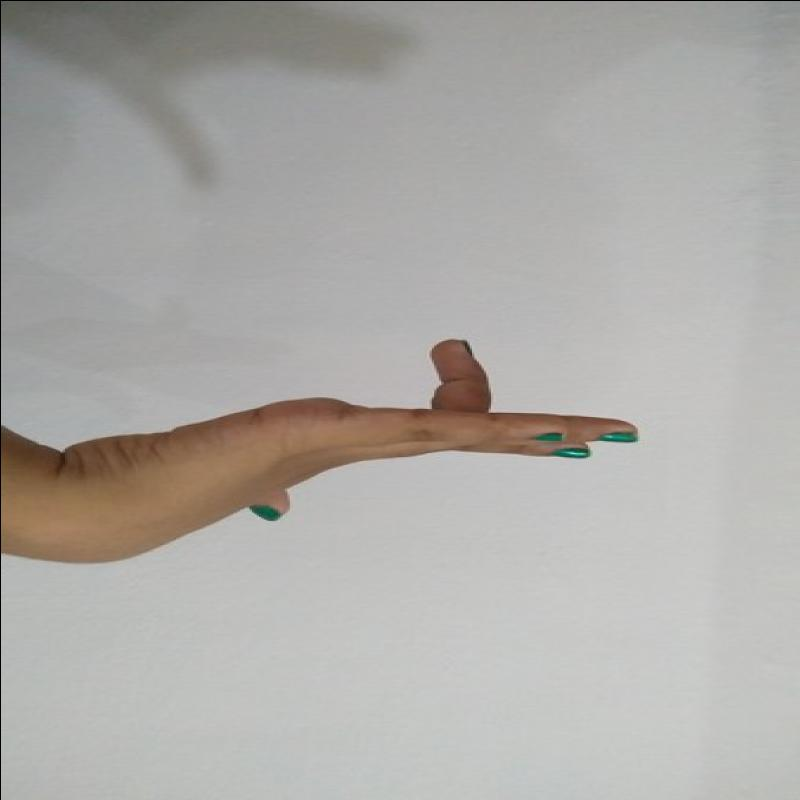Pathaaka: (53, 326, 643, 572)
